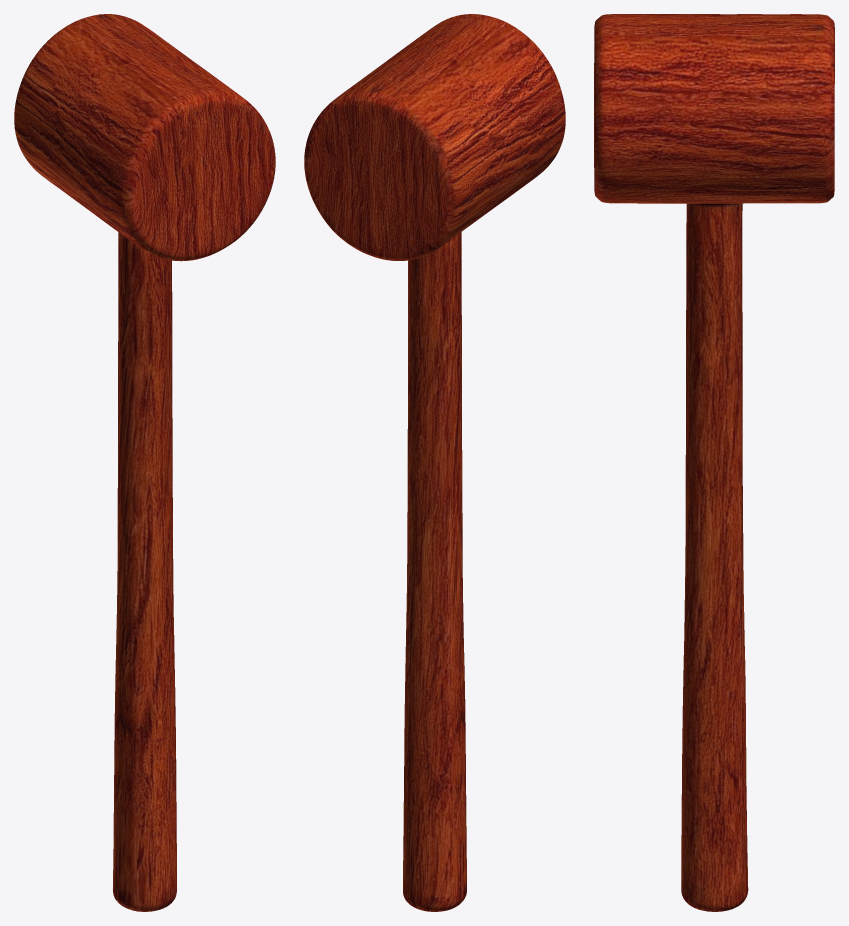
Rendered from mallet.glb.
3 views of the same model, side by side, from view 1: azimuth 30°, elevation 25°; view 2: azimuth 150°, elevation 25°; view 3: azimuth 270°, elevation 25° (orthographic). The views are drawn at different scales.
Visible parts, largest first — view 1: tg_mallet; view 2: tg_mallet; view 3: tg_mallet.
Part boxes in pixels (x1,y1,x2,y2): tg_mallet: [14, 14, 275, 911]; tg_mallet: [304, 14, 565, 911]; tg_mallet: [594, 14, 834, 911].
Size of the model in its own units: 0.1907 by 1 by 0.2472.
1 material, 1 textured.
